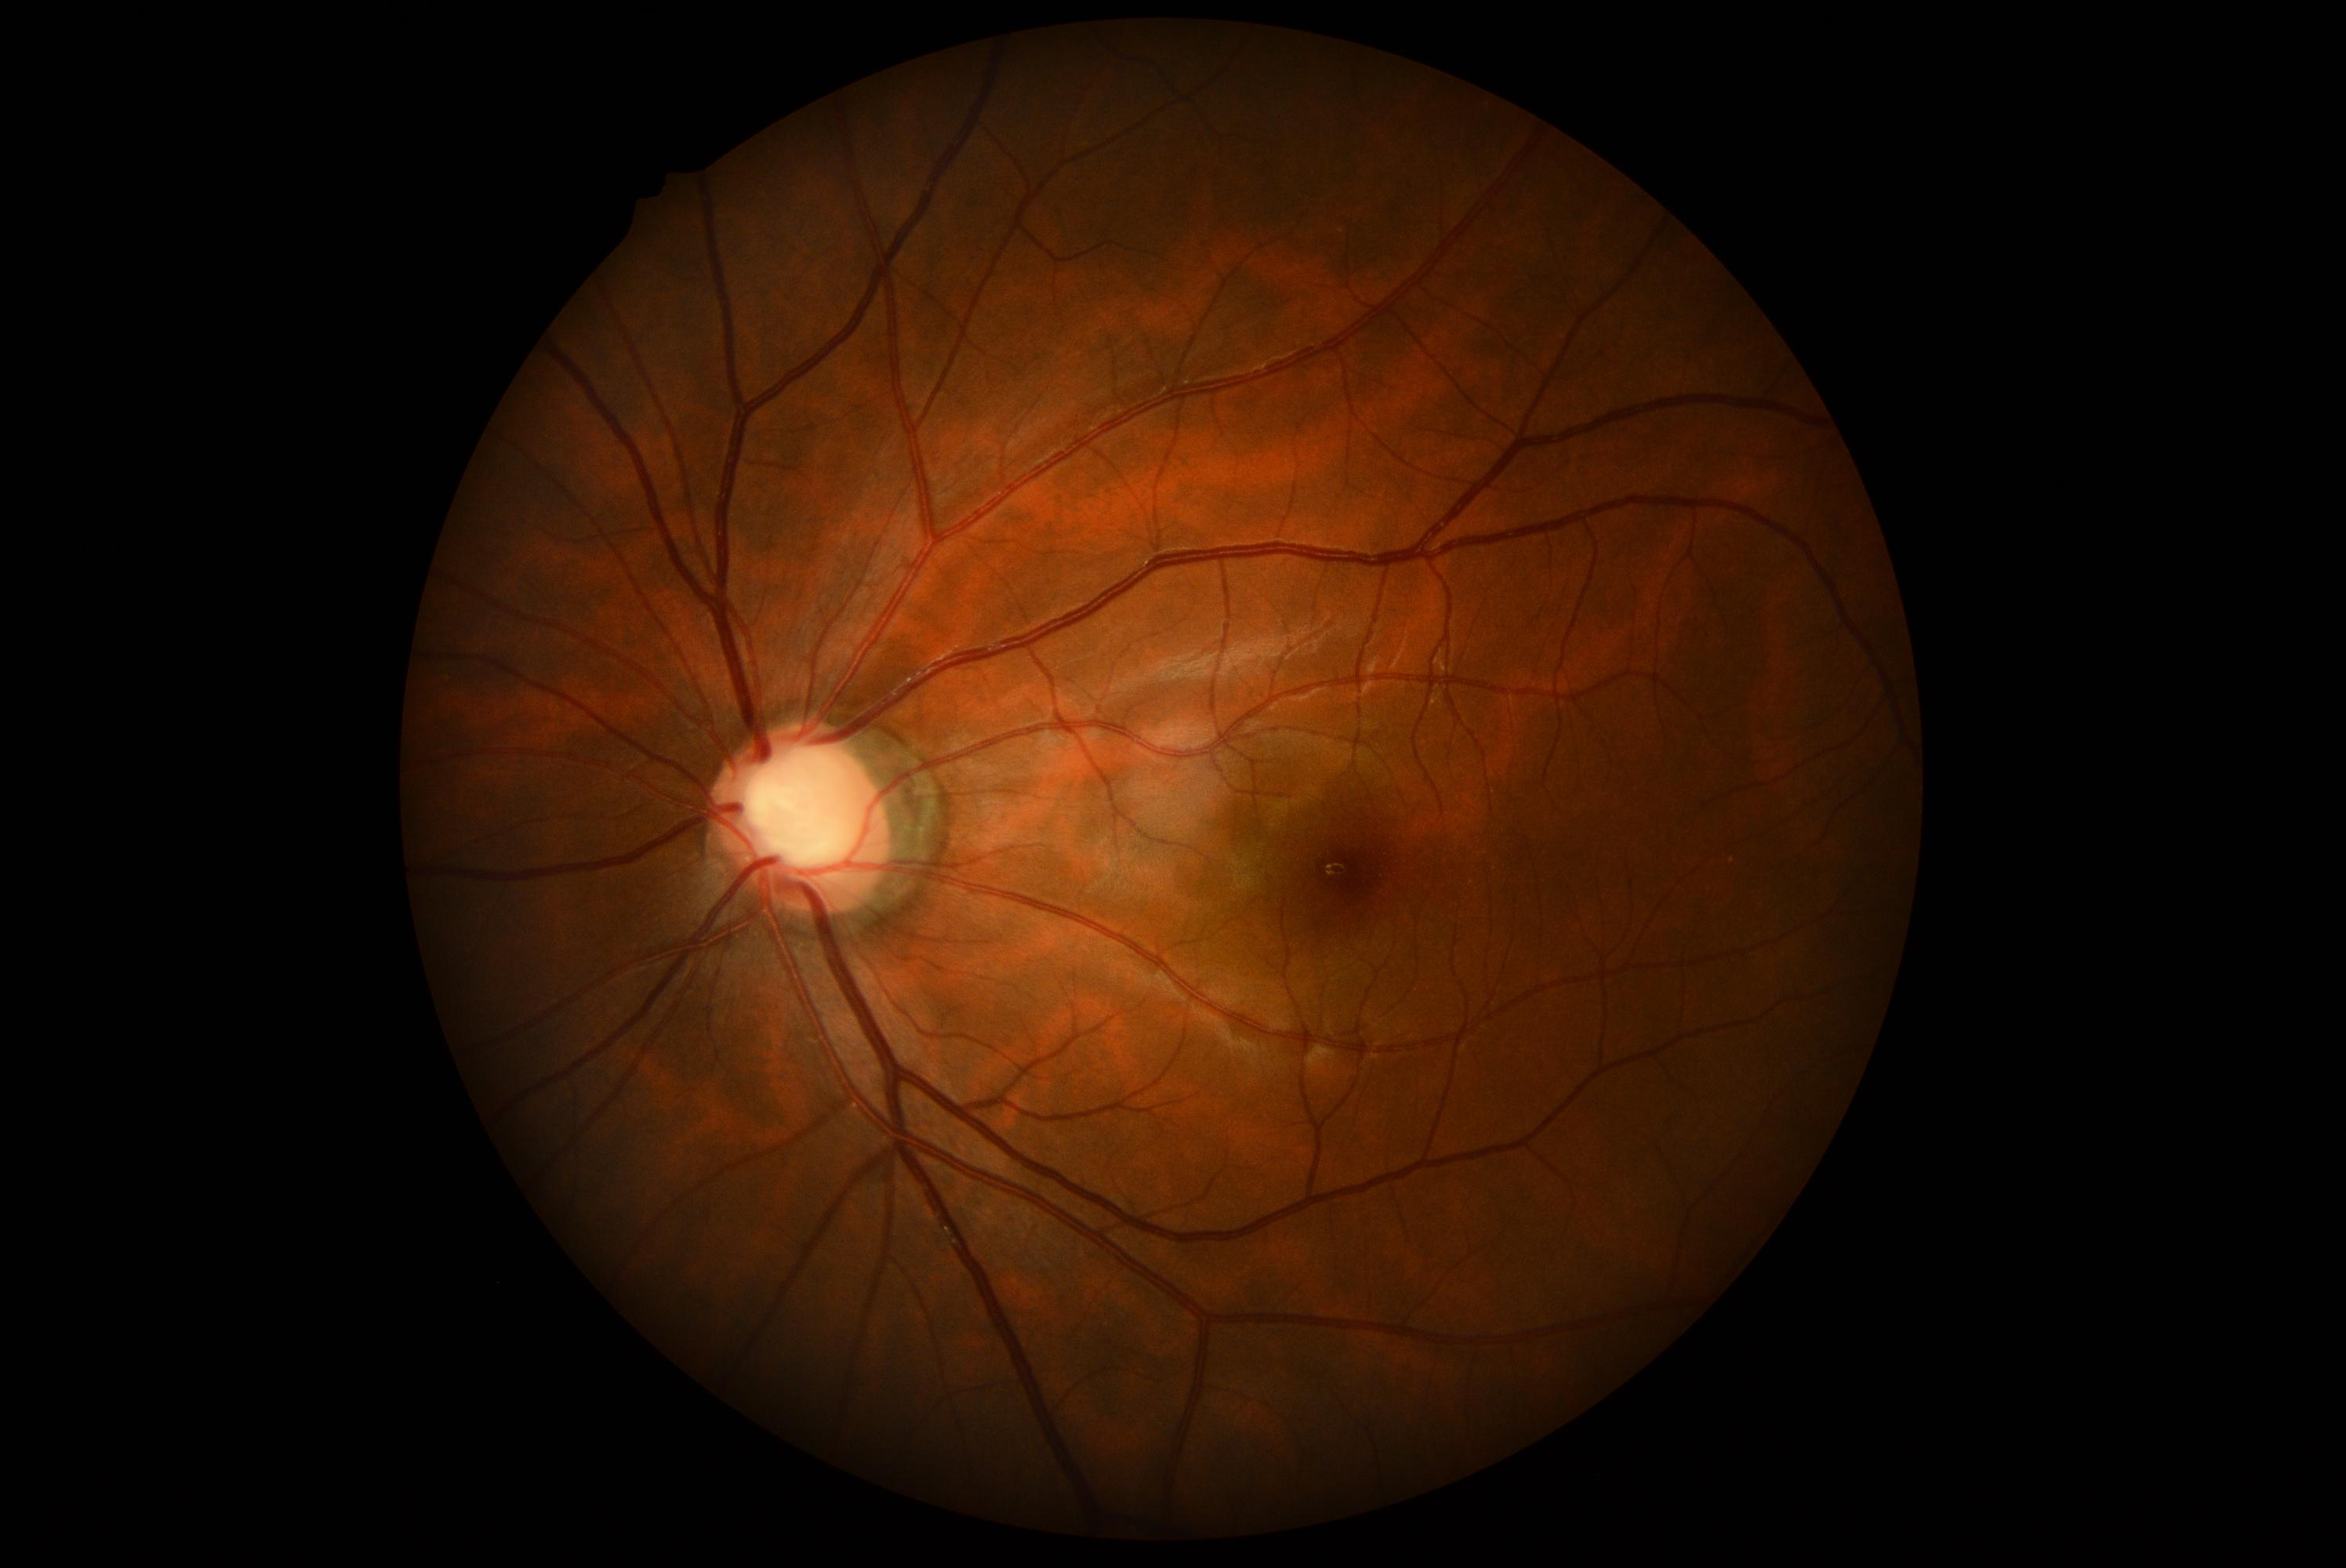Fovea: (1263, 798, 1410, 936)
